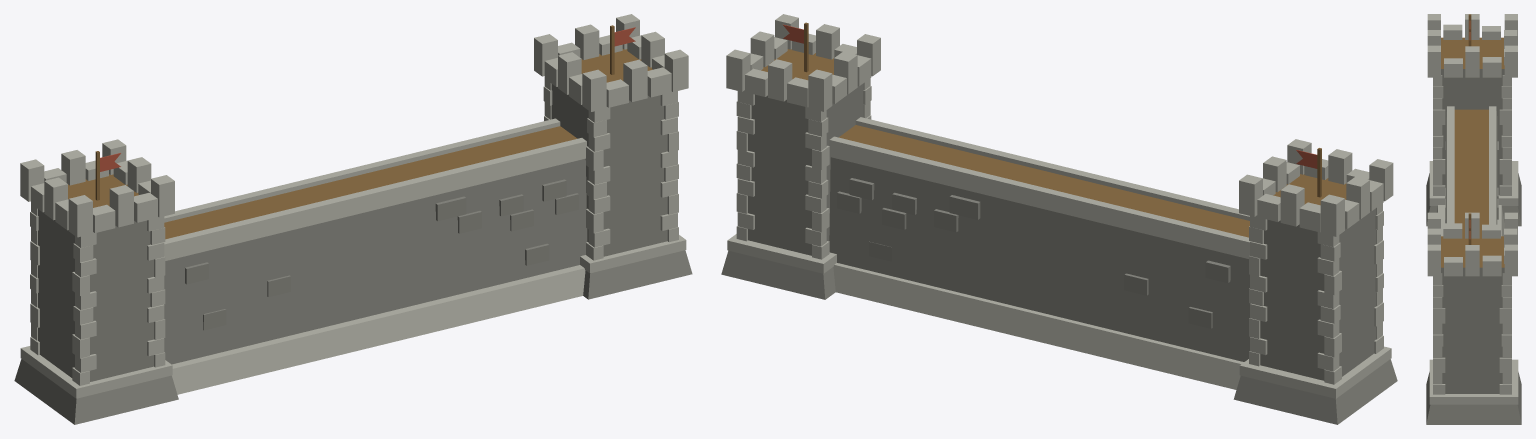
Rendered from Stone Wall Towers.glb.
3 renders of one model, left to right at view 1: azimuth 30°, elevation 25°; view 2: azimuth 150°, elevation 25°; view 3: azimuth 270°, elevation 25°, orthographic. The views are drawn at different scales.
Parts seen in each view (by area): view 1: Stone Wall Towers; view 2: Stone Wall Towers; view 3: Stone Wall Towers.
Part boxes in pixels (<box>): Stone Wall Towers: <box>14,14,692,424</box>; Stone Wall Towers: <box>721,14,1397,424</box>; Stone Wall Towers: <box>1426,14,1521,424</box>.
Size of the model in its own units: 1.98 by 0.7353 by 0.3334.
